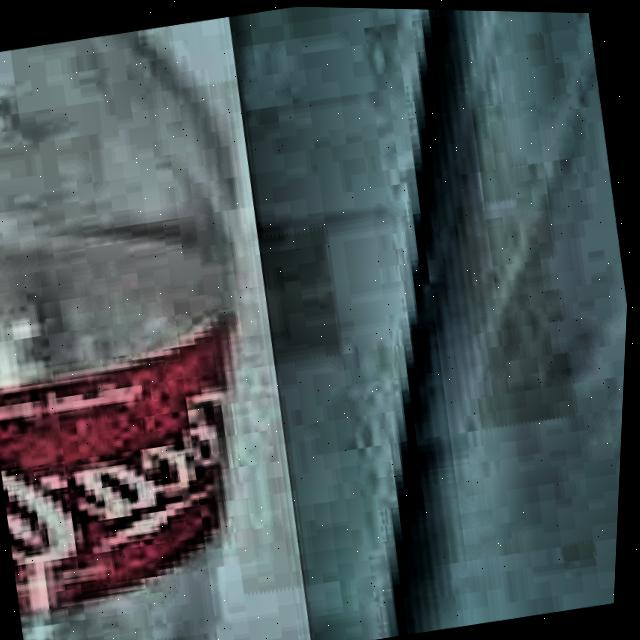plastic: (0, 11, 340, 640)
